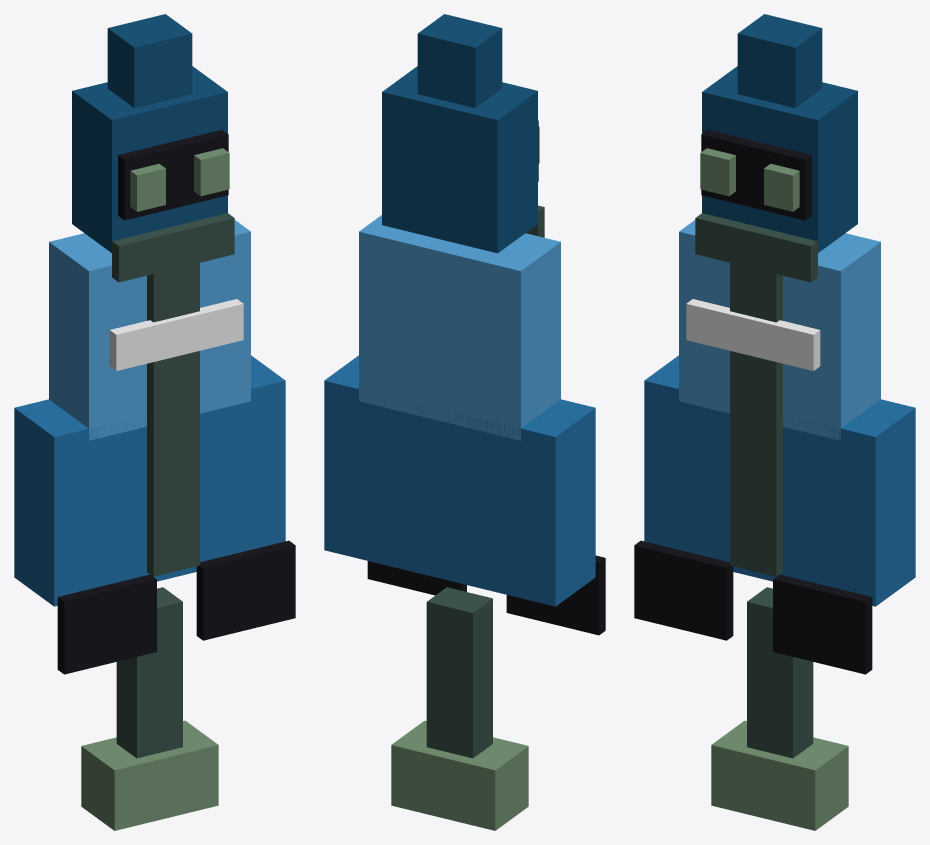
The model's file is mage.gltf.
3 views of the same model, side by side, from view 1: azimuth 30°, elevation 25°; view 2: azimuth 150°, elevation 25°; view 3: azimuth 330°, elevation 25° (orthographic).
Visible parts, largest first — view 1: 04_shroud_hem, 06_shroud_body, 10_cowl, 00_grave_light, 05_seam_hem, 01_grave_light_column, 02_hem_tatter_left, 03_hem_tatter_right, 14_hood_point, 07_seam_body, 08_rib_bar, 09_collar (+3 smaller); view 2: 04_shroud_hem, 06_shroud_body, 10_cowl, 01_grave_light_column, 00_grave_light, 14_hood_point, 02_hem_tatter_left, 03_hem_tatter_right; view 3: 04_shroud_hem, 06_shroud_body, 10_cowl, 00_grave_light, 05_seam_hem, 01_grave_light_column, 03_hem_tatter_right, 02_hem_tatter_left, 14_hood_point, 07_seam_body, 08_rib_bar, 09_collar (+3 smaller).
Boxes of the visible parts, x1,y1,x2,y2 form: 04_shroud_hem: (14, 355, 285, 606); 06_shroud_body: (49, 220, 250, 440); 10_cowl: (72, 66, 227, 252); 00_grave_light: (81, 720, 218, 830); 05_seam_hem: (147, 408, 199, 576); 01_grave_light_column: (116, 587, 182, 758); 02_hem_tatter_left: (57, 574, 156, 674); 03_hem_tatter_right: (196, 540, 295, 640); 14_hood_point: (107, 14, 192, 107); 07_seam_body: (147, 250, 199, 419); 08_rib_bar: (109, 299, 243, 370); 09_collar: (112, 213, 234, 282); 04_shroud_hem: (324, 355, 595, 606); 06_shroud_body: (359, 215, 560, 440); 10_cowl: (382, 66, 537, 253); 01_grave_light_column: (426, 587, 492, 758); 00_grave_light: (391, 720, 528, 830); 14_hood_point: (417, 14, 502, 107); 02_hem_tatter_left: (506, 555, 605, 635); 03_hem_tatter_right: (367, 561, 466, 595); 04_shroud_hem: (644, 355, 915, 606); 06_shroud_body: (679, 220, 880, 440); 10_cowl: (702, 66, 857, 252); 00_grave_light: (711, 720, 848, 830); 05_seam_hem: (730, 408, 782, 576); 01_grave_light_column: (747, 587, 813, 758); 03_hem_tatter_right: (773, 574, 872, 674); 02_hem_tatter_left: (634, 540, 733, 640); 14_hood_point: (737, 14, 822, 107); 07_seam_body: (730, 250, 782, 419); 08_rib_bar: (686, 299, 820, 370); 09_collar: (695, 213, 817, 282).
Size of the model in its own units: 0.625 by 2 by 0.25.
